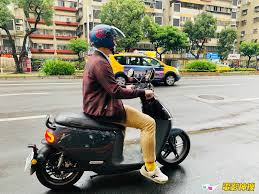helmet: (88, 19, 120, 50)
